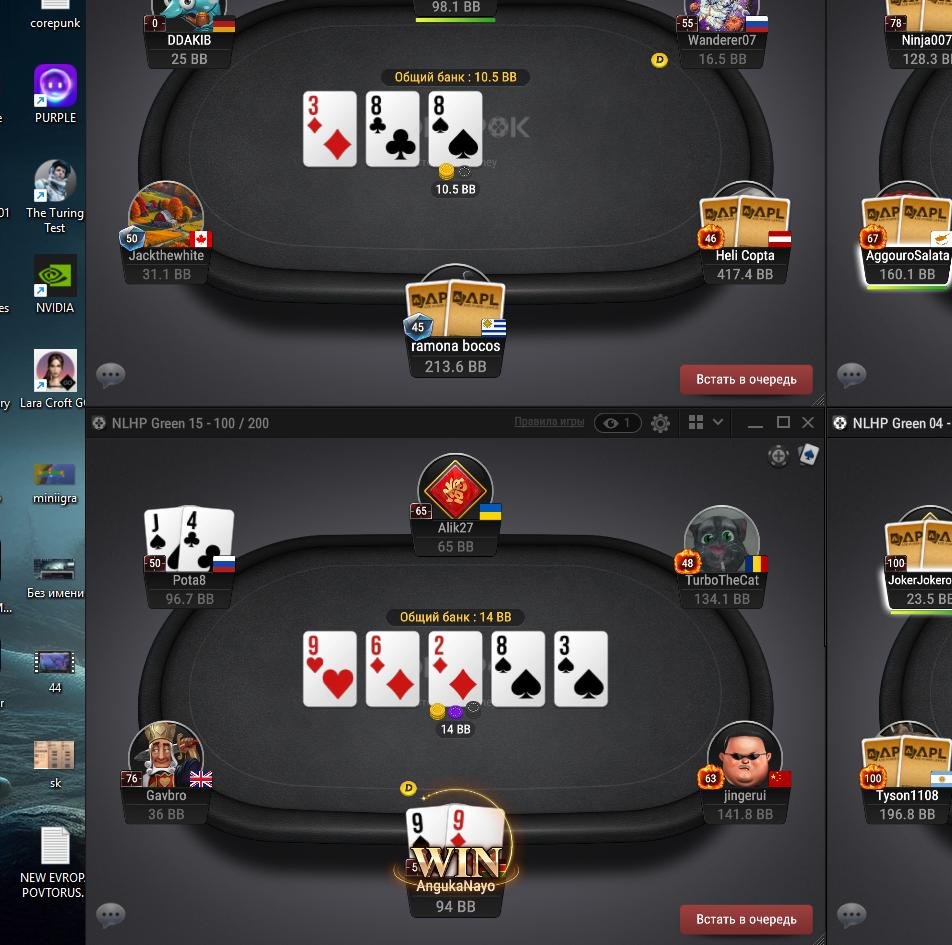2d: (429, 630, 482, 706)
3d: (302, 89, 356, 164)
3s: (554, 633, 607, 705)
4c: (180, 500, 235, 570)
6d: (365, 633, 418, 705)
8c: (365, 91, 417, 166)
8s: (427, 91, 483, 165), (491, 632, 545, 705)
9d: (448, 803, 508, 849)
9h: (304, 633, 356, 705)
9s: (405, 805, 450, 854)
Js: (140, 506, 184, 571)
